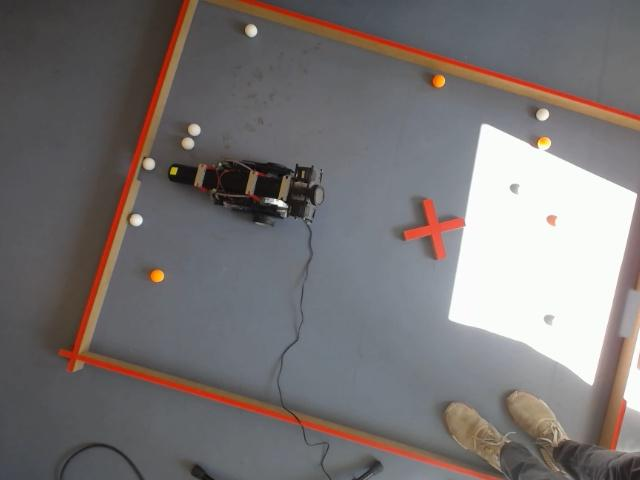orange: (148, 268, 167, 284), (431, 73, 446, 90)
robot: (168, 161, 325, 227)
robot-front: (168, 164, 192, 184)
white: (244, 23, 258, 40), (535, 107, 550, 122), (188, 122, 200, 138), (182, 135, 194, 150), (130, 214, 143, 226), (143, 158, 155, 170)
